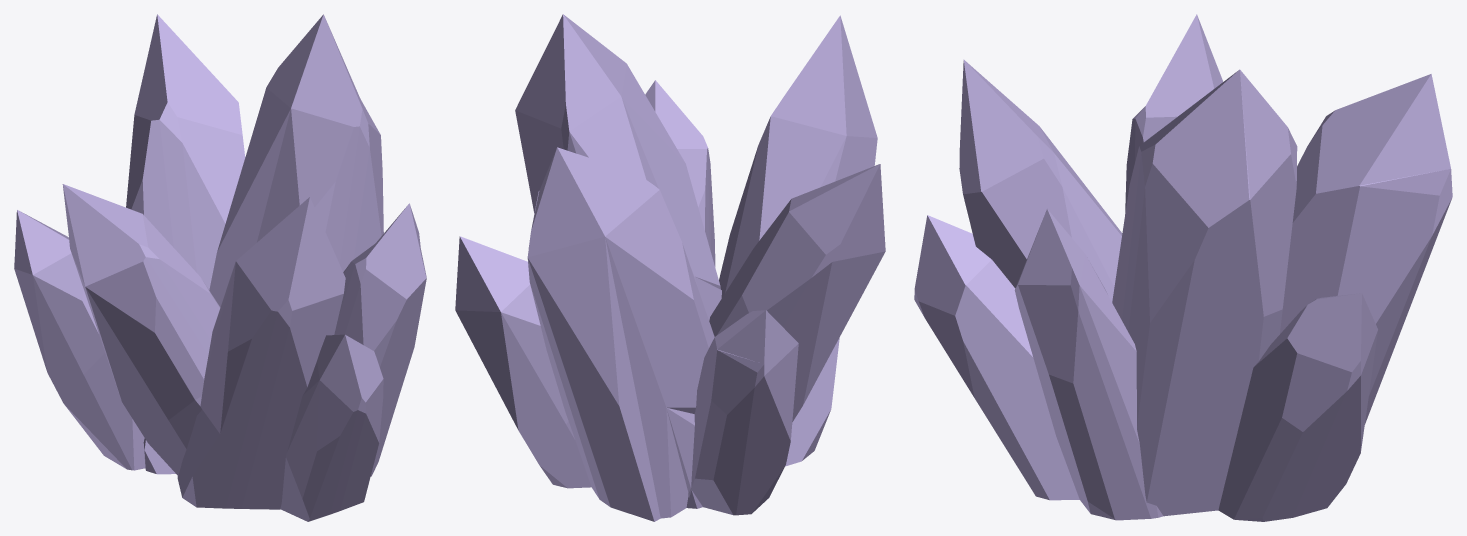
File: crystals.glb
3 renders of one model, left to right at view 1: azimuth 30°, elevation 25°; view 2: azimuth 150°, elevation 25°; view 3: azimuth 270°, elevation 25°, orthographic. The views are drawn at different scales.
Parts seen in each view (by area): view 1: Cube.002; view 2: Cube.002; view 3: Cube.002.
Boxes of the visible parts, x1,y1,x2,y2 form: Cube.002: (14,14,426,521); Cube.002: (455,14,885,521); Cube.002: (914,14,1452,521).
Bounding box in the file's own units: 4.79 × 5.7 × 6.11.
